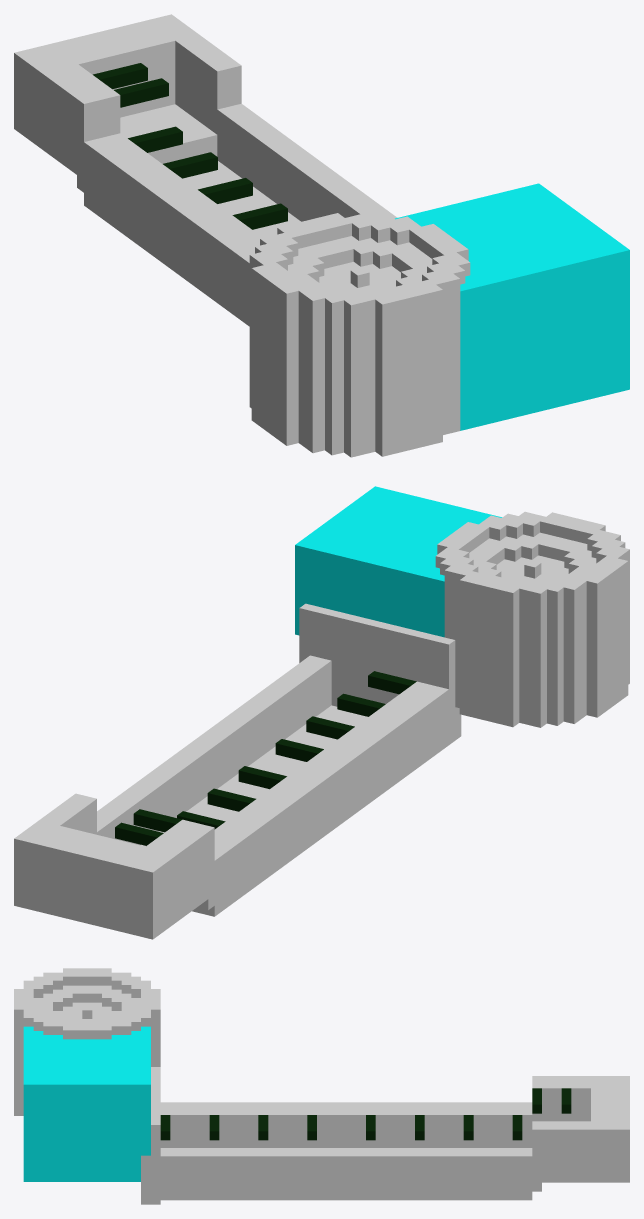
The model's file is gage01.obj.
3 views of the same model, one above another, from view 1: azimuth 30°, elevation 25°; view 2: azimuth 150°, elevation 25°; view 3: azimuth 270°, elevation 25° (orthographic). The views are drawn at different scales.
Bounding box in the file's own units: 26 × 15 × 63.
Materials: 1 (1 with a texture image).
